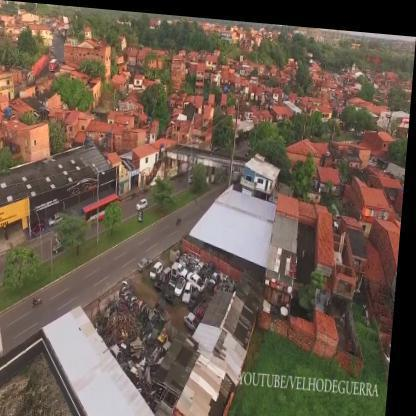lixo: (114, 300, 184, 368), (153, 249, 226, 302)
